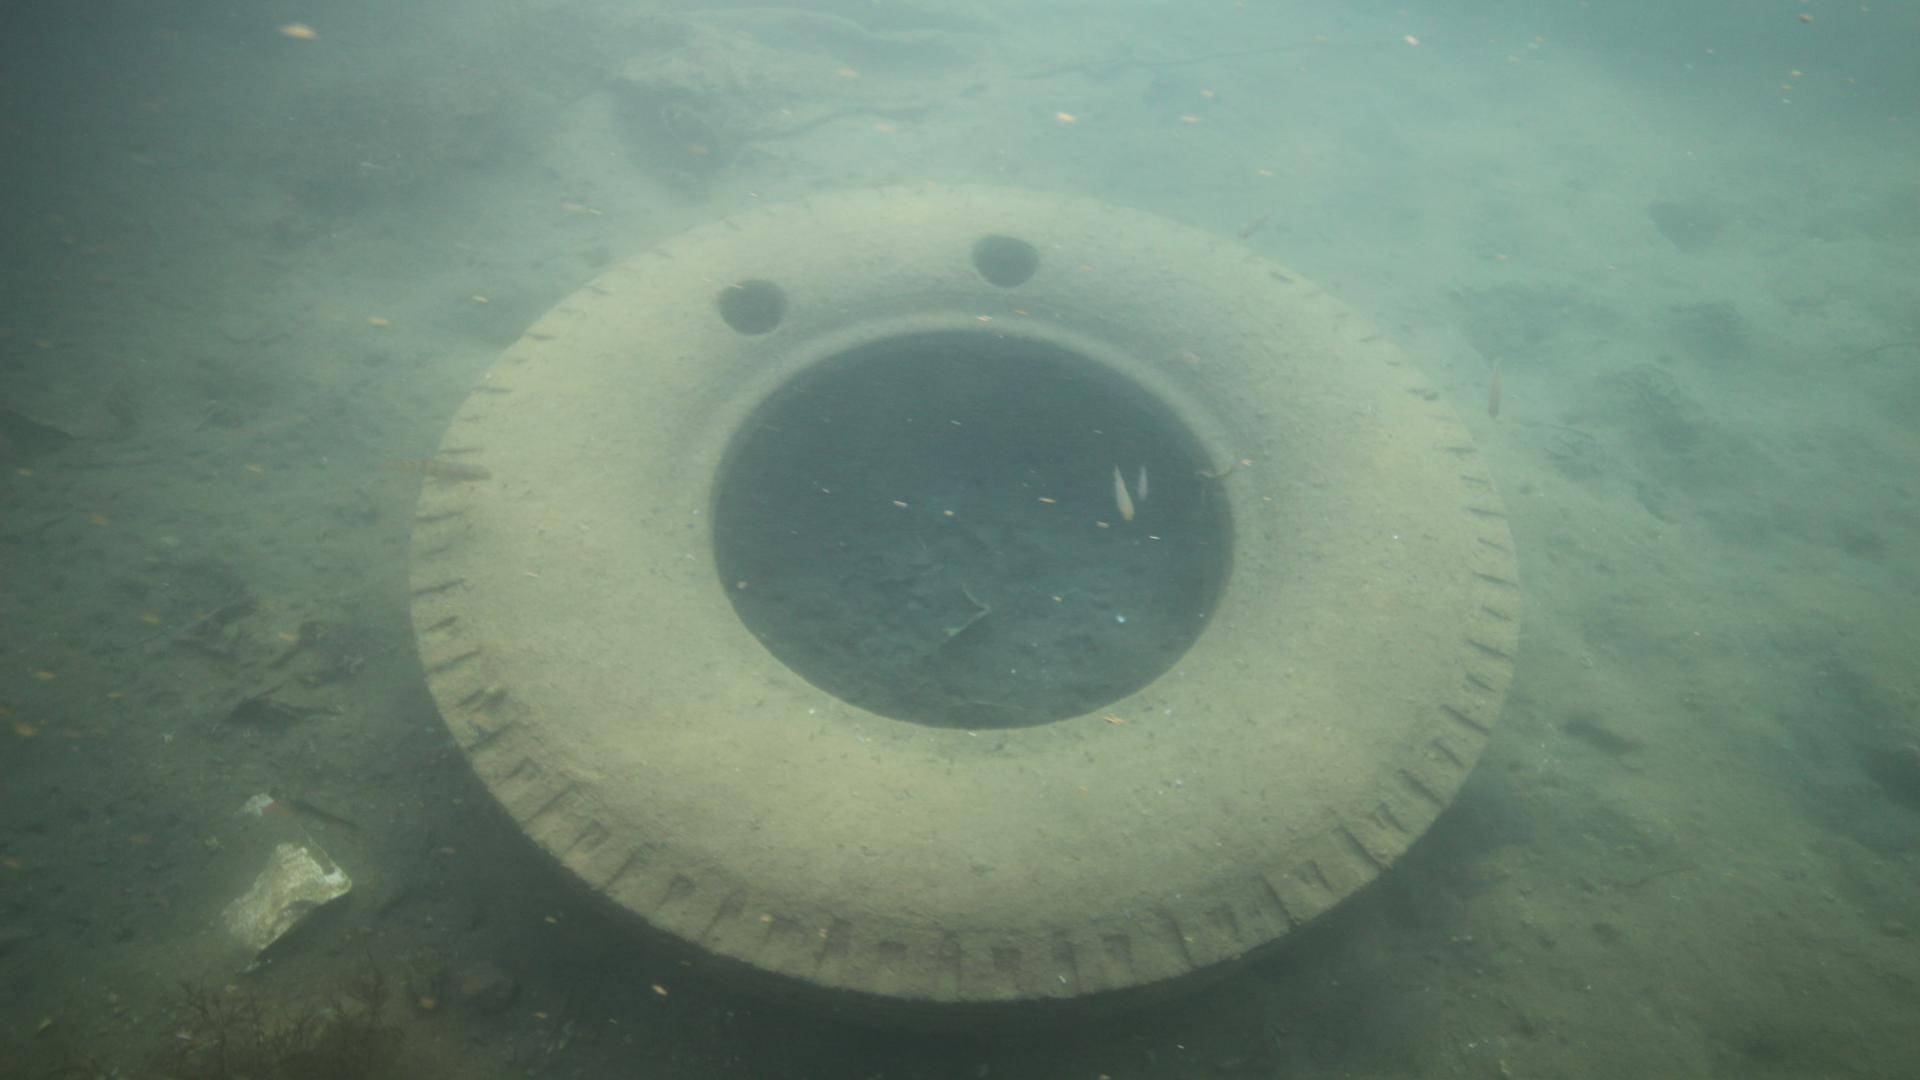tire: (396, 175, 1527, 1042)
